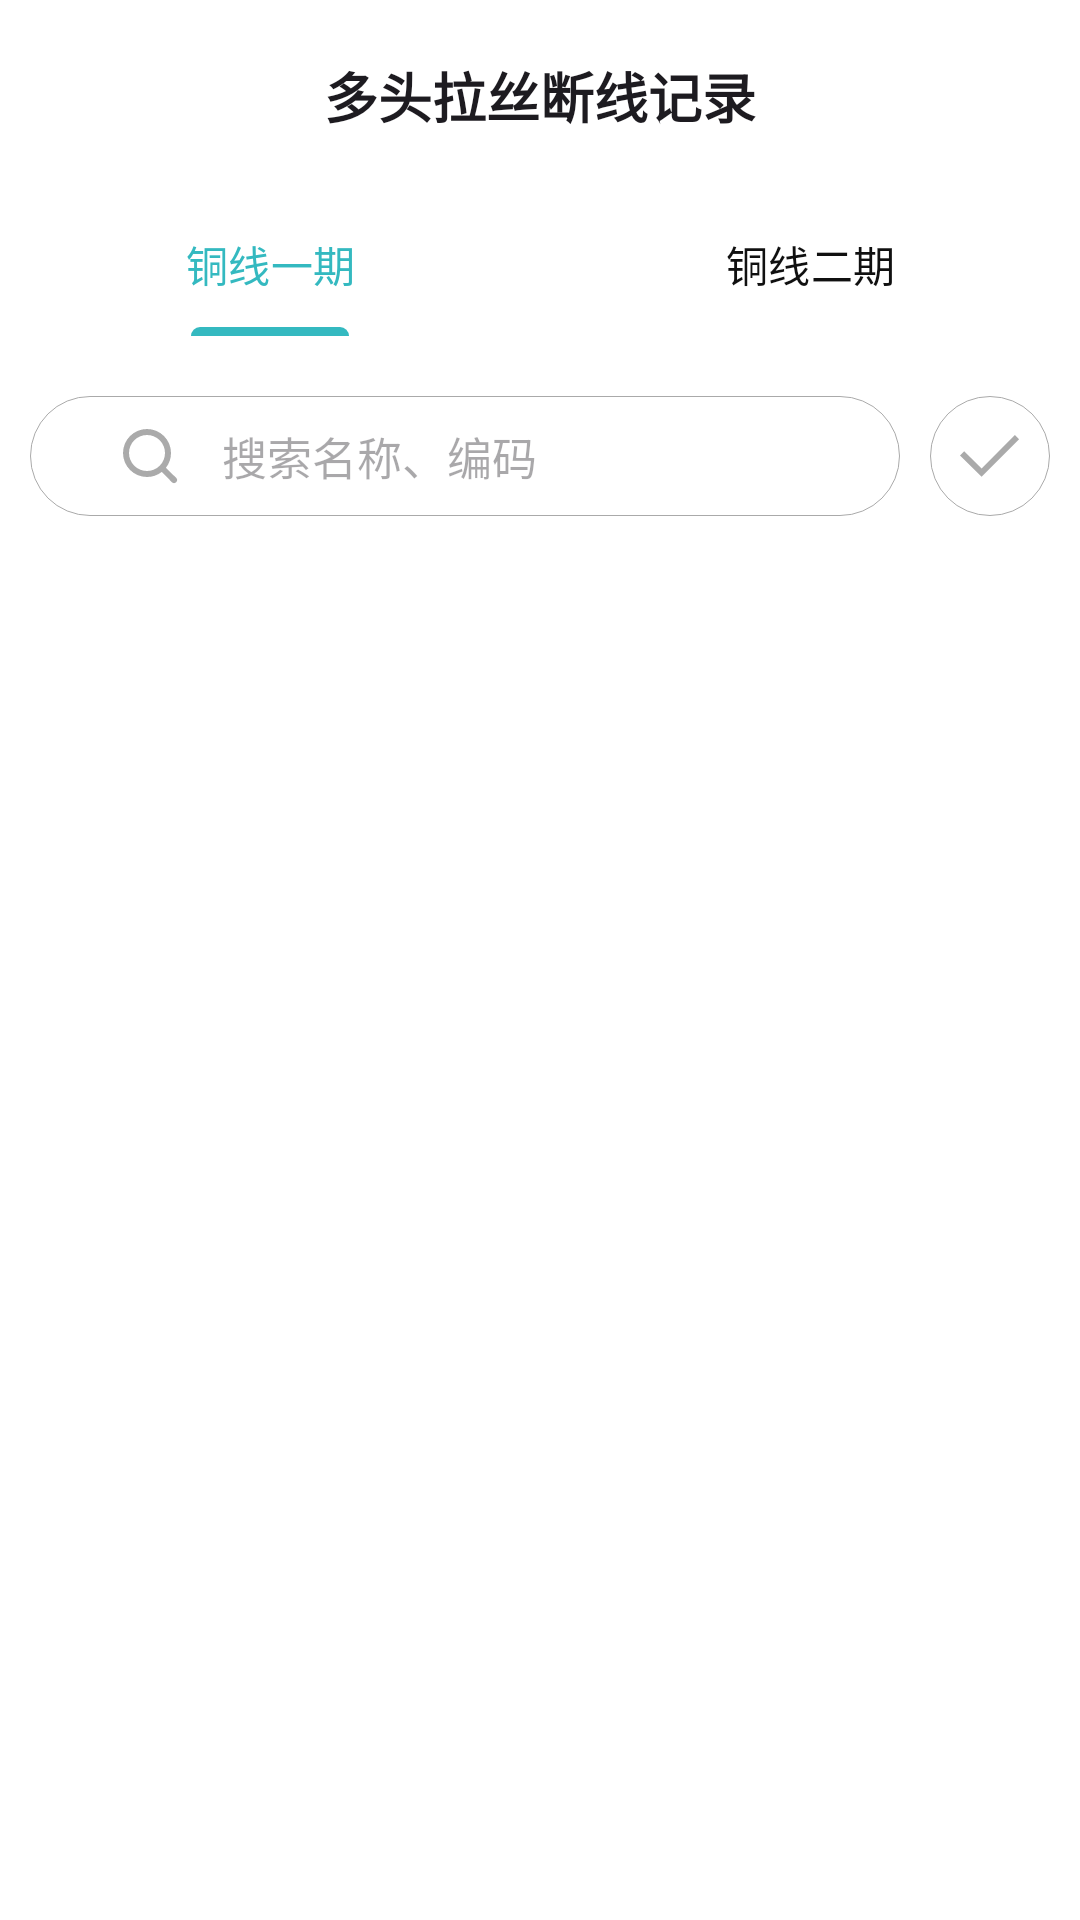

Icon click points for this 1080w x 1920h phone screenshot, format point (x, y):
check mark: point (990, 456)
